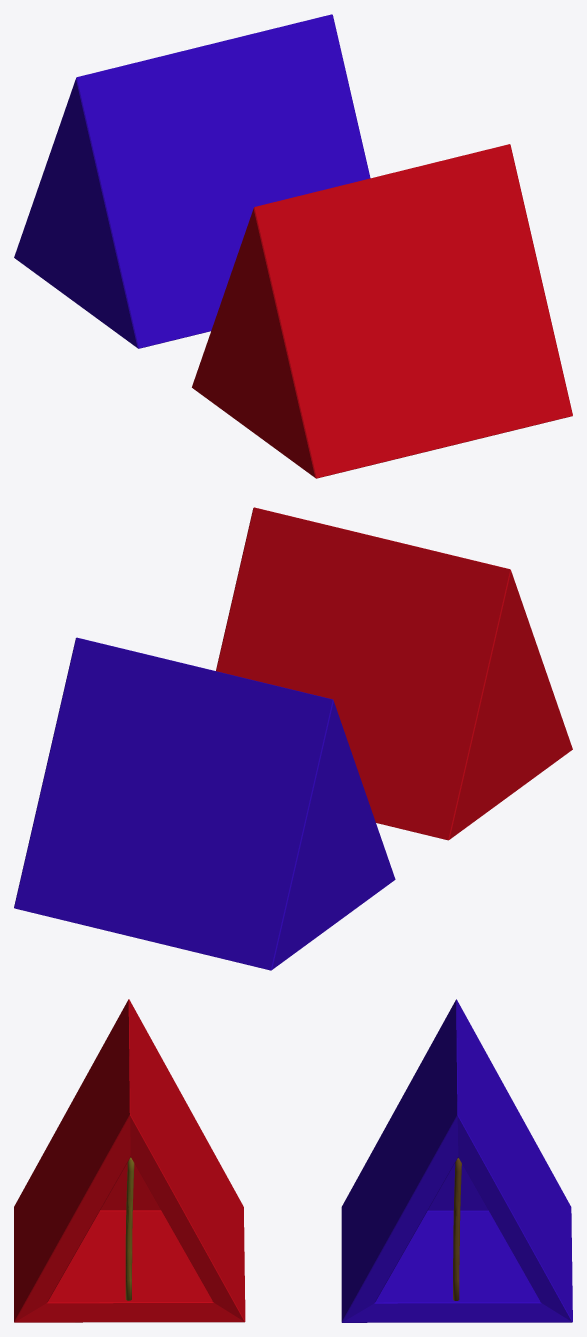
File: Tenten.fbx
The picture shows the model from 3 angles, top to bottom: view 1: azimuth 30°, elevation 25°; view 2: azimuth 150°, elevation 25°; view 3: azimuth 270°, elevation 25°; orthographic projection. The views are drawn at different scales.
Visible parts, largest first — view 1: BézierCurve, BézierCurve.001; view 2: BézierCurve.001, BézierCurve; view 3: BézierCurve, BézierCurve.001.
Part boxes in pixels (x1,y1,x2,y2): BézierCurve: [192, 144, 572, 478]; BézierCurve.001: [14, 14, 370, 348]; BézierCurve.001: [14, 637, 395, 970]; BézierCurve: [216, 507, 572, 840]; BézierCurve: [14, 999, 245, 1322]; BézierCurve.001: [341, 999, 572, 1322].
Size of the model in its own units: 134 by 112 by 273.
